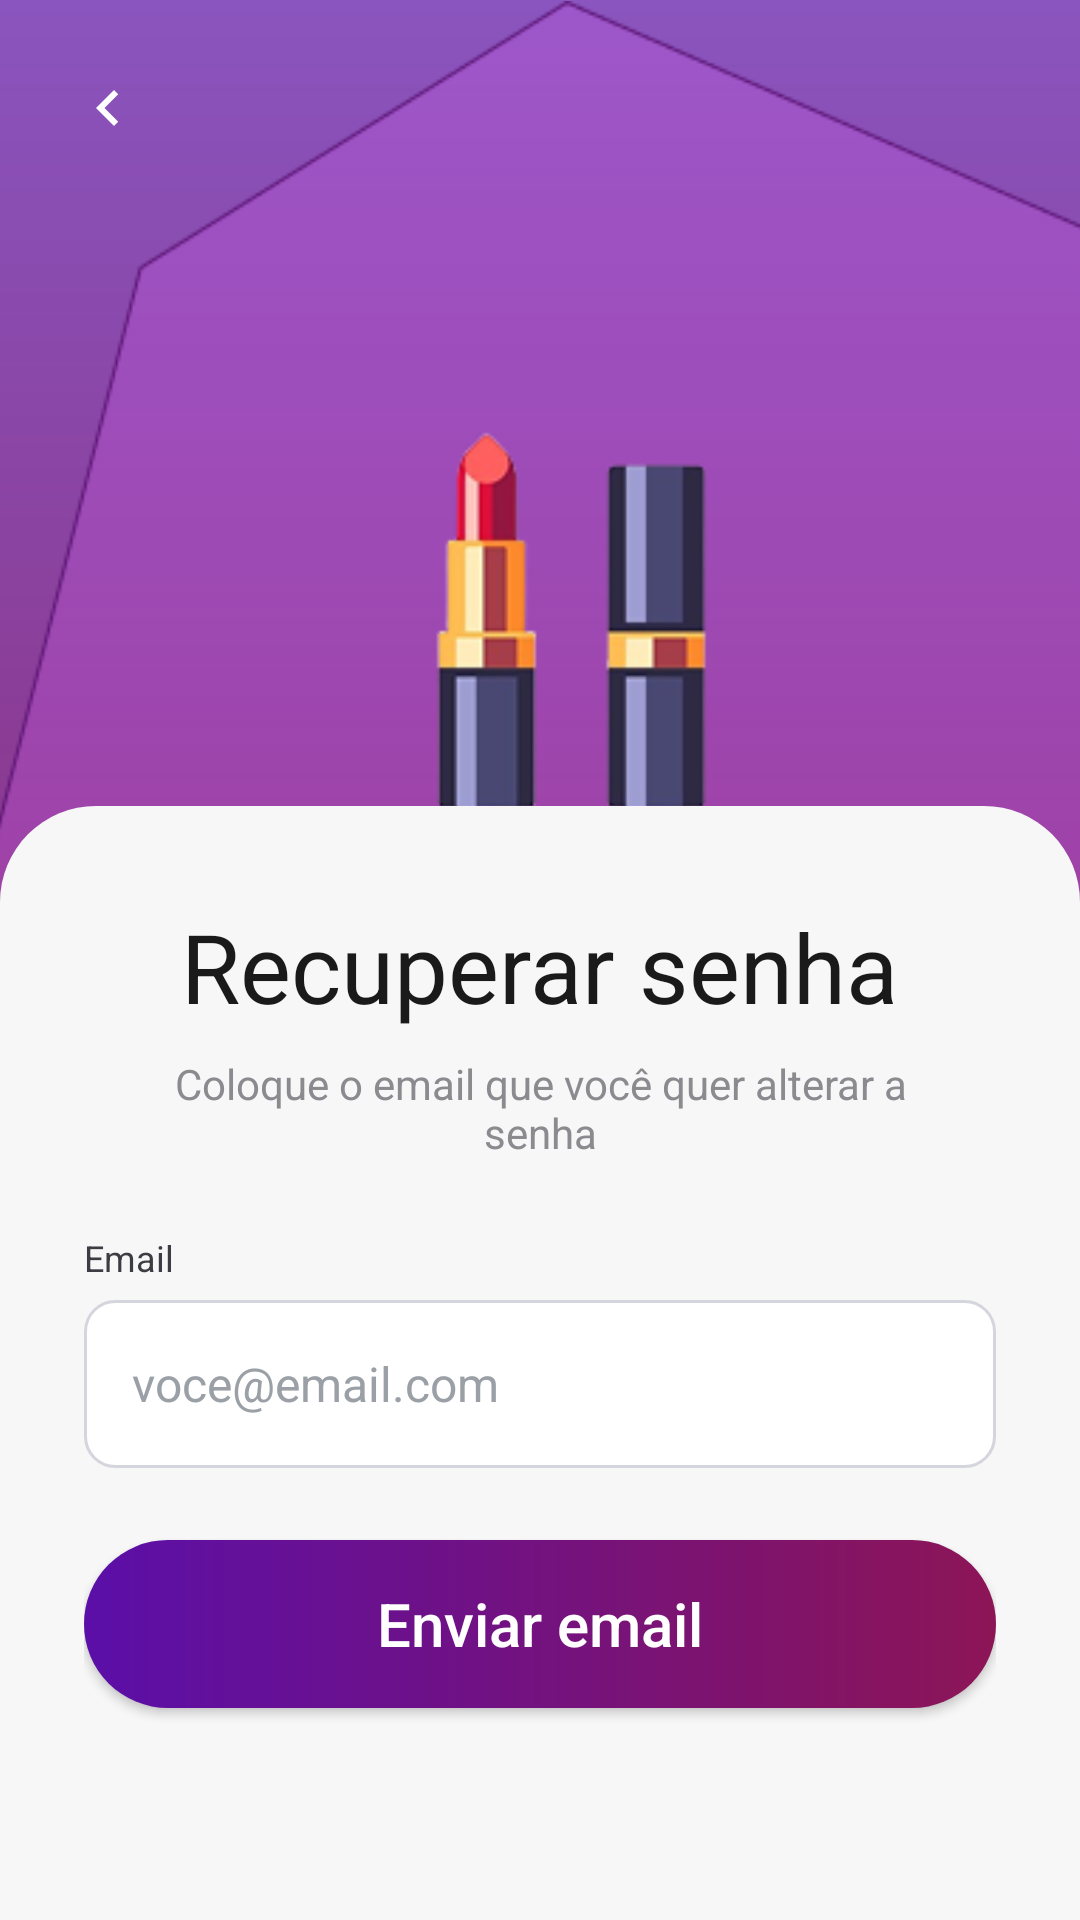

Where to tap for icons on this 1080*1920 app screen, as (x,y):
Voltar: (107,108)
